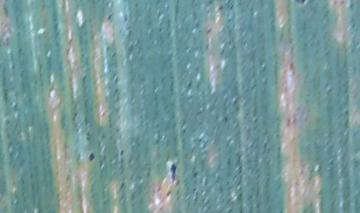tarspot: (169, 162, 178, 184), (87, 151, 96, 162), (293, 1, 307, 7)
